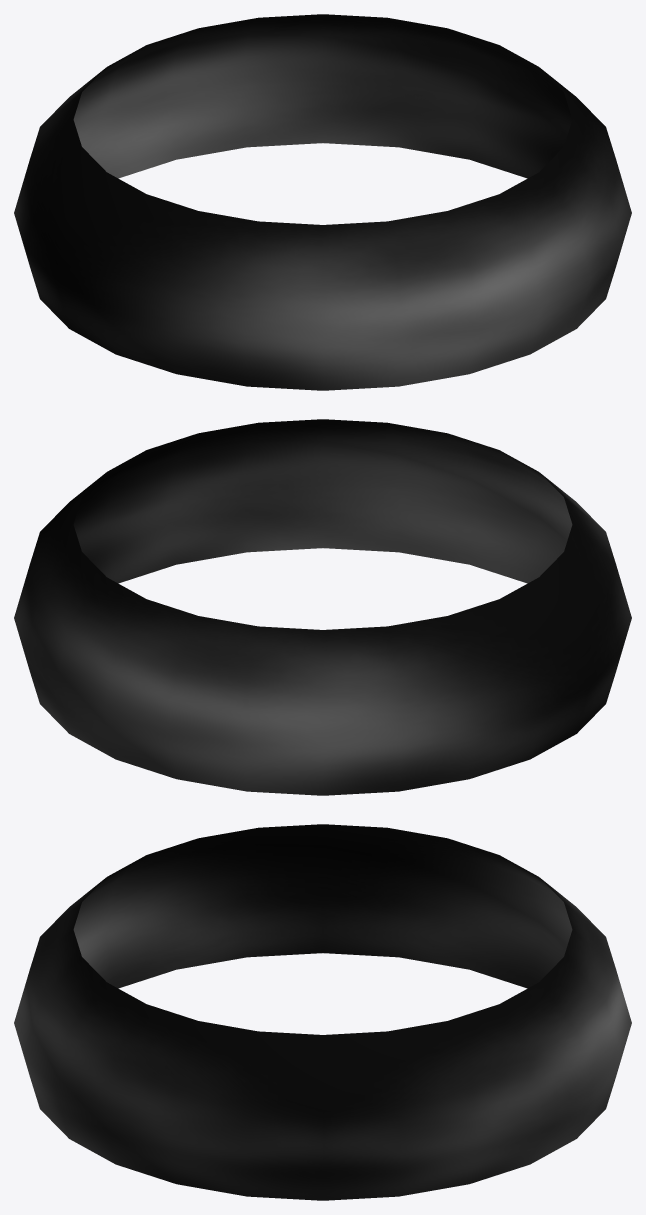
Rendered from shockWave_mdl.FBX.
3 renders of one model, top to bottom at view 1: azimuth 30°, elevation 25°; view 2: azimuth 150°, elevation 25°; view 3: azimuth 270°, elevation 25°, orthographic.
Parts seen in each view (by area): view 1: shockWave_mdl; view 2: shockWave_mdl; view 3: shockWave_mdl.
Part boxes in pixels (left/top/right/bottom): shockWave_mdl: left=14, top=14, right=631, bottom=390; shockWave_mdl: left=14, top=419, right=631, bottom=795; shockWave_mdl: left=14, top=824, right=631, bottom=1200.
Size of the model in its own units: 3457 by 910 by 3457.
